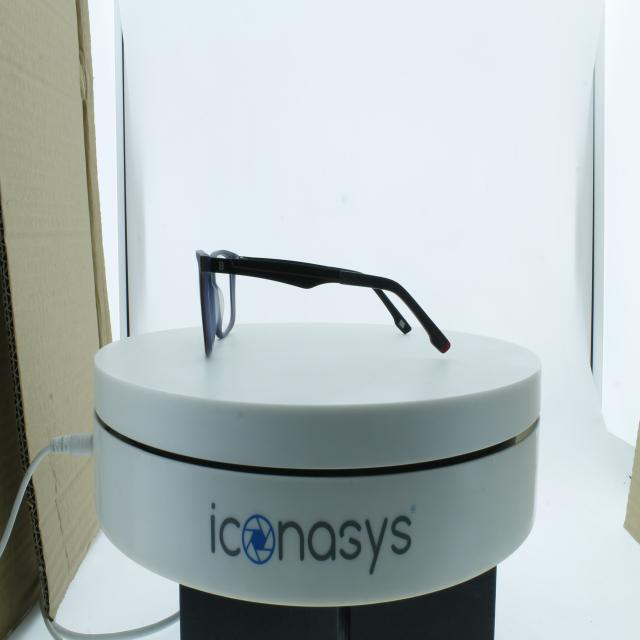Specs: (186, 218, 463, 380)
